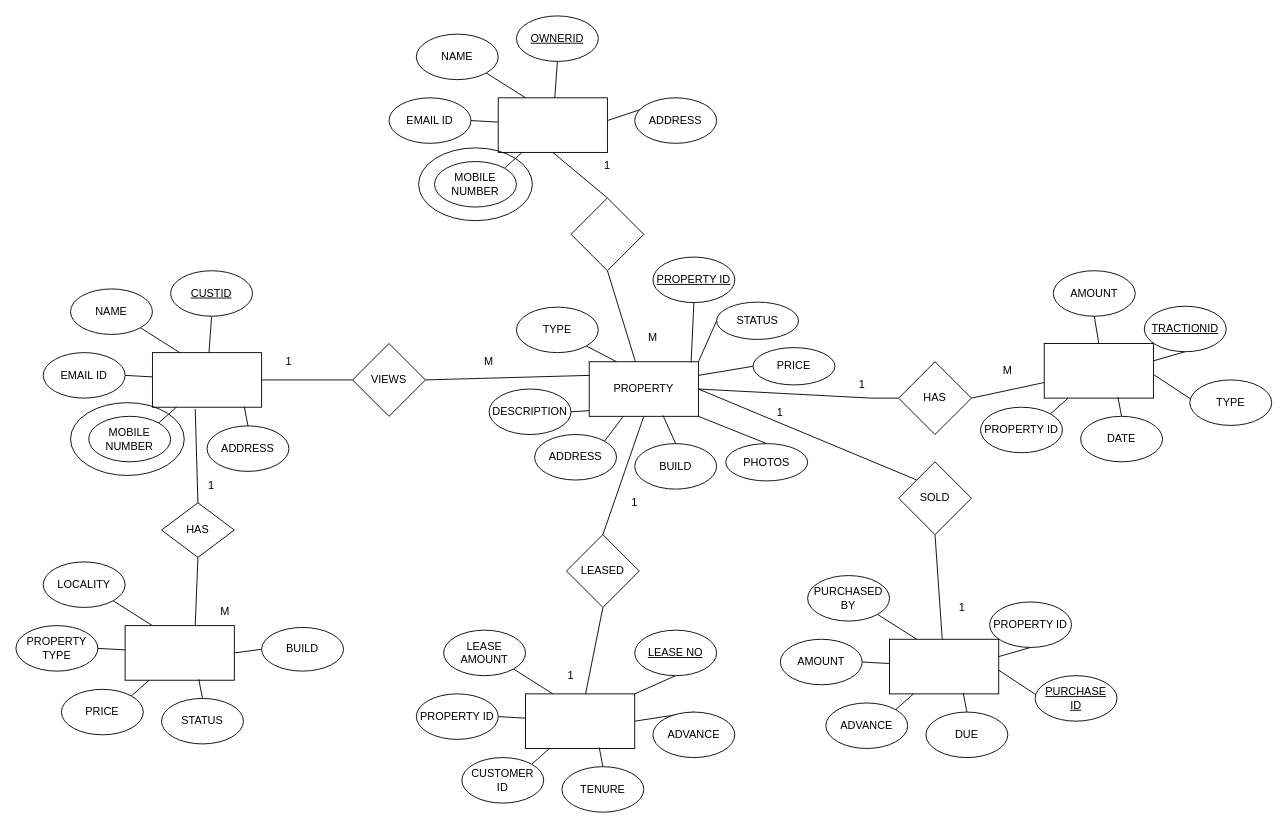
The diagram is 1288 pixels wide and 828 high, and some of its shapes have lost their labels. The shapes that lost their labels are listed below. From the top down, each one's centre as x and y in pixels, then its label:
(552,124): PROPERTY OWNER
(607,234): SELLS
(207,379): CUSTOMER
(1098,370): TRANSACTION
(179,652): PREFERENCES
(944,666): PURCHASE
(580,720): LEASE
